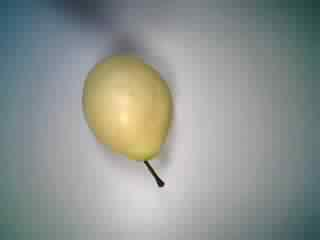pear: (77, 42, 187, 192)
